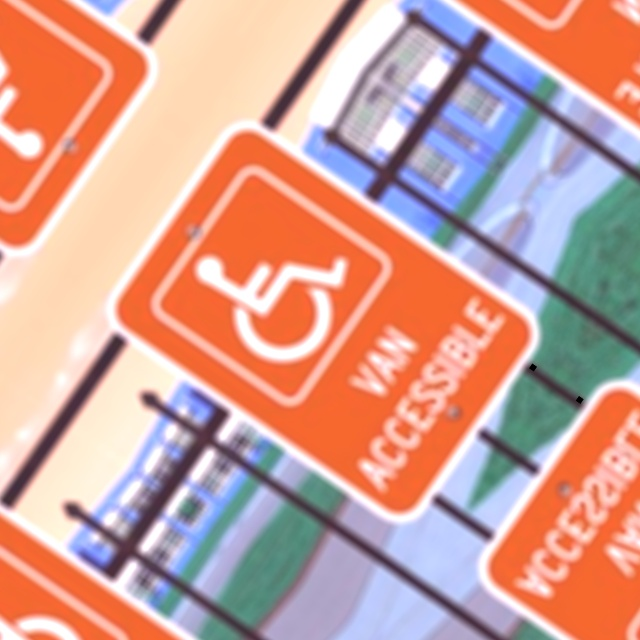ISA: (175, 192, 369, 381), (0, 0, 87, 186), (0, 570, 107, 640), (438, 0, 632, 3)
